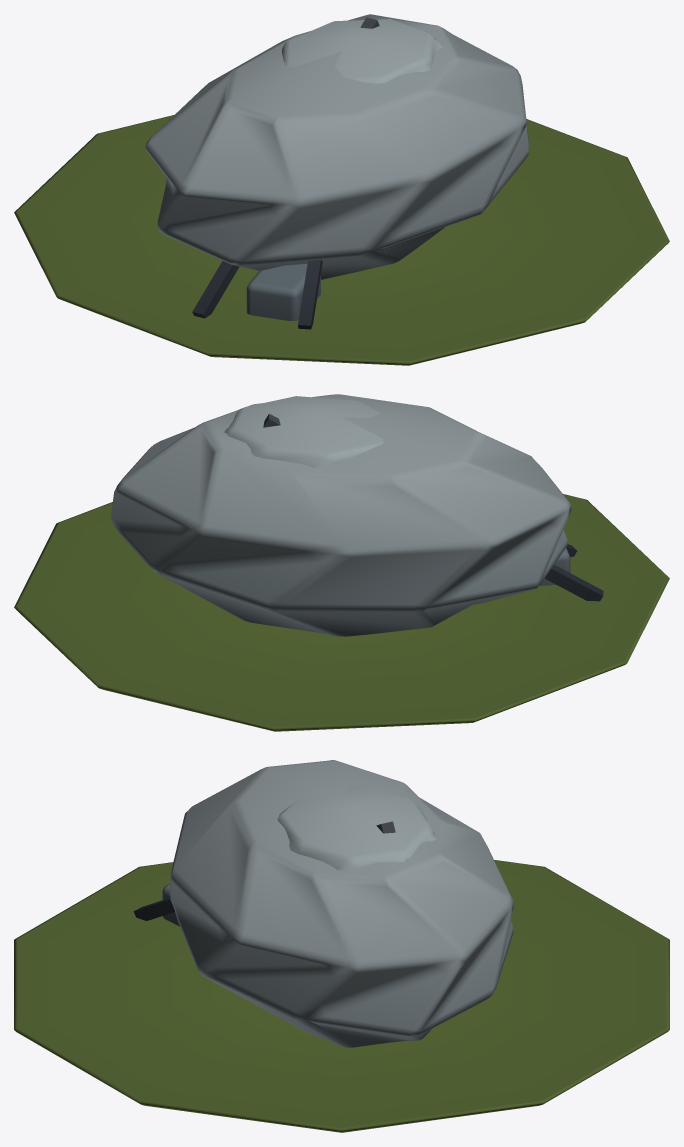
File: devil_stone.glb
3 views of the same model, one above another, from view 1: azimuth 30°, elevation 25°; view 2: azimuth 150°, elevation 25°; view 3: azimuth 270°, elevation 25° (orthographic). The views are drawn at different scales.
Visible parts, largest first — view 1: devil_stone, devil_stone_trim; view 2: devil_stone, devil_stone_trim; view 3: devil_stone, devil_stone_trim.
Boxes of the visible parts, box(x1,y1,x2,y2) form: devil_stone: box(14, 14, 669, 365); devil_stone_trim: box(192, 17, 379, 329); devil_stone: box(14, 394, 669, 731); devil_stone_trim: box(263, 413, 603, 601); devil_stone: box(14, 760, 669, 1132); devil_stone_trim: box(133, 821, 395, 920).
Bounding box in the file's own units: 2.57 × 0.86 × 2.44.
